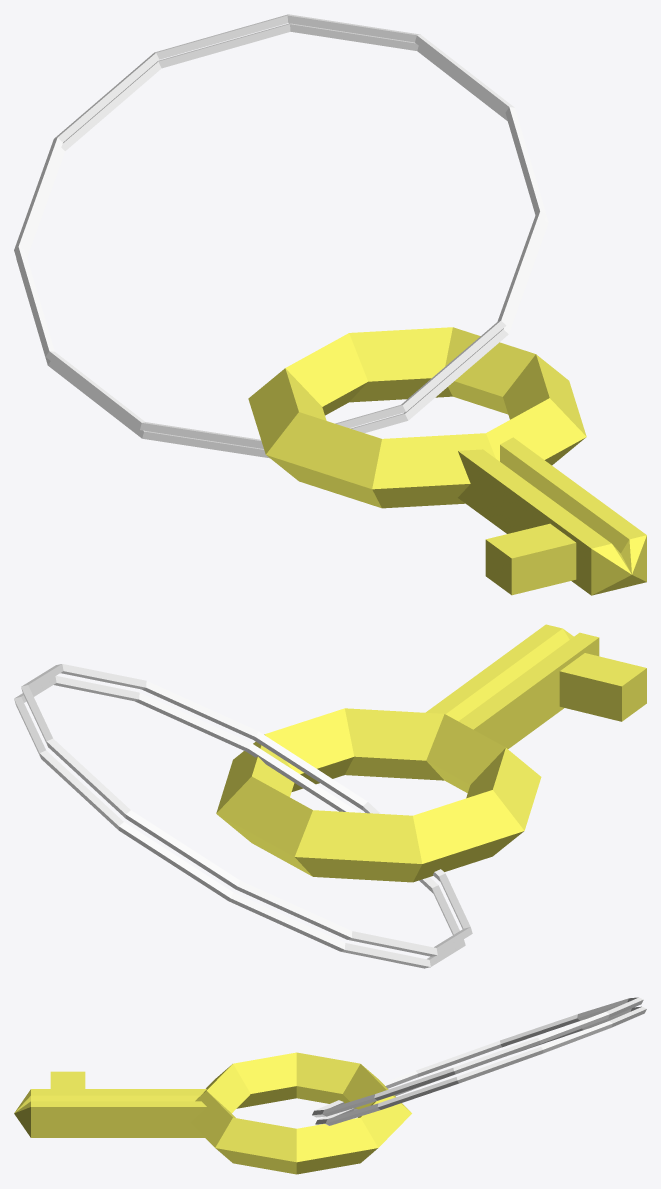
Rendered from Llave.fbx.
3 views of the same model, one above another, from view 1: azimuth 30°, elevation 25°; view 2: azimuth 150°, elevation 25°; view 3: azimuth 270°, elevation 25° (orthographic). The views are drawn at different scales.
Parts seen in each view (by area): view 1: Cube.001; view 2: Cube.001; view 3: Cube.001.
Boxes of the visible parts, <box> form: Cube.001: <box>14,14,646,595</box>; Cube.001: <box>14,624,646,968</box>; Cube.001: <box>14,997,646,1174</box>.
Size of the model in its own units: 370 by 203 by 702.
1 material, 1 textured.
